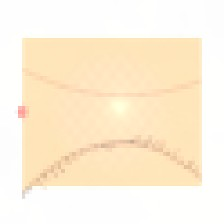corneal_ulcer: (75, 84, 135, 132)
